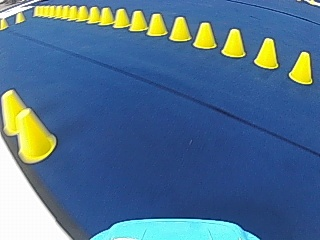cone: (13, 105, 57, 162), (0, 89, 28, 135), (254, 37, 280, 69), (288, 50, 312, 84), (221, 27, 245, 58), (192, 21, 216, 49), (169, 15, 192, 41), (146, 13, 167, 36), (129, 10, 147, 32), (113, 8, 129, 28), (99, 7, 113, 25), (87, 6, 100, 23), (77, 5, 88, 21), (68, 6, 77, 19), (61, 5, 68, 17), (55, 6, 62, 16)
